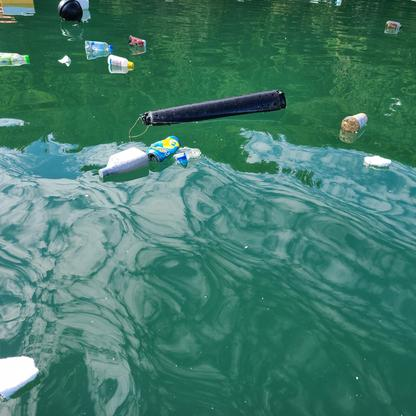can: (148, 135, 180, 162)
foam: (1, 356, 38, 399), (364, 155, 391, 169), (106, 55, 135, 68)
plastic bottle: (342, 112, 368, 132), (169, 149, 202, 164), (1, 52, 29, 66), (84, 39, 112, 51)
